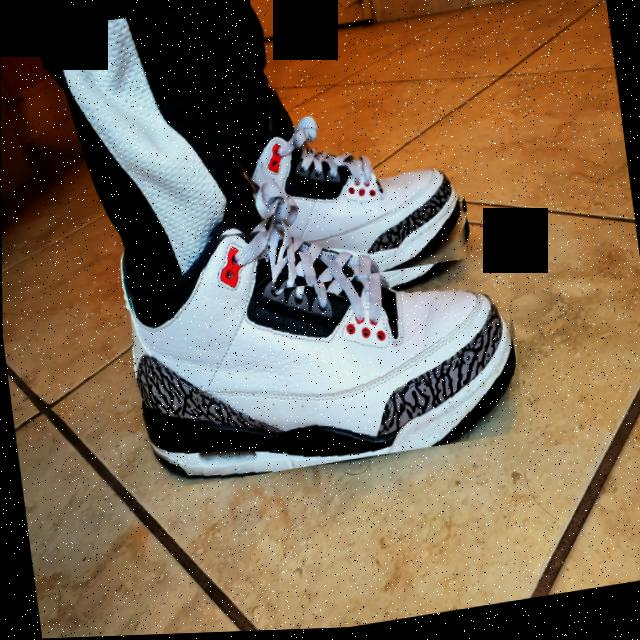shoe: (116, 187, 528, 493), (253, 110, 475, 293)
